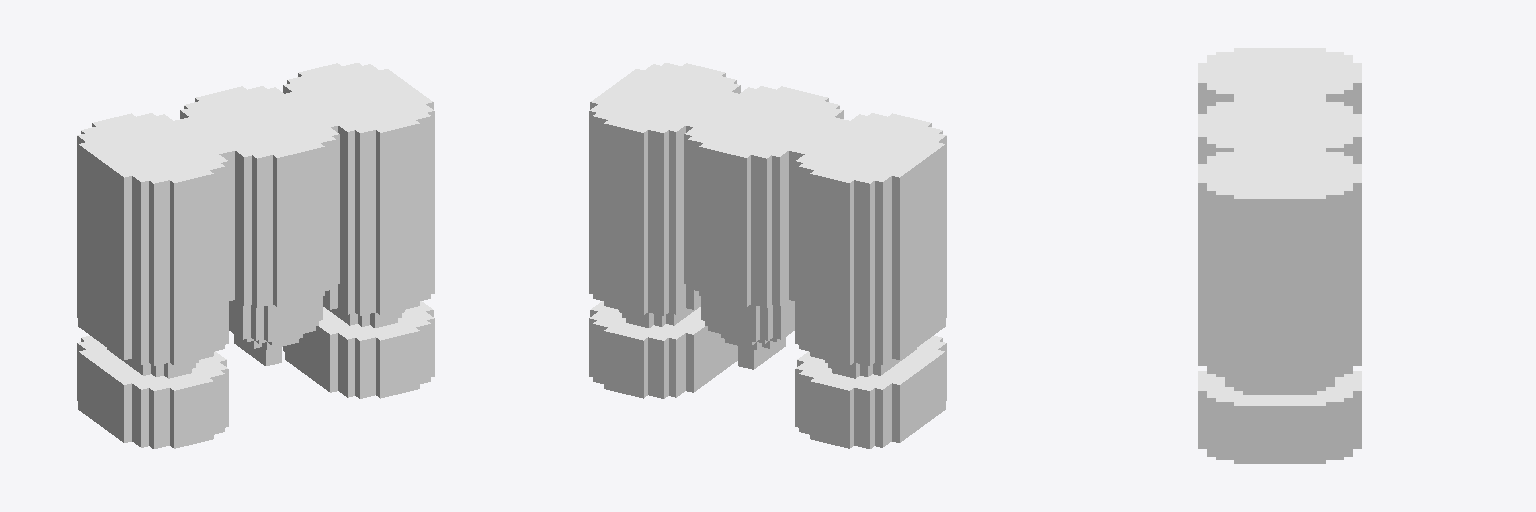
The model's file is ship-2-bottom.obj.
3 views of the same model, side by side, from view 1: azimuth 30°, elevation 25°; view 2: azimuth 150°, elevation 25°; view 3: azimuth 270°, elevation 25° (orthographic).
Parts seen in each view (by area): view 1: bottom; view 2: bottom; view 3: bottom.
Boxes of the visible parts, x1=… form: bottom: x1=77, y1=63, x2=434, y2=448; bottom: x1=589, y1=63, x2=946, y2=448; bottom: x1=1198, y1=48, x2=1361, y2=463.
Bounding box in the file's own units: 3.9 × 3.2 × 1.8.